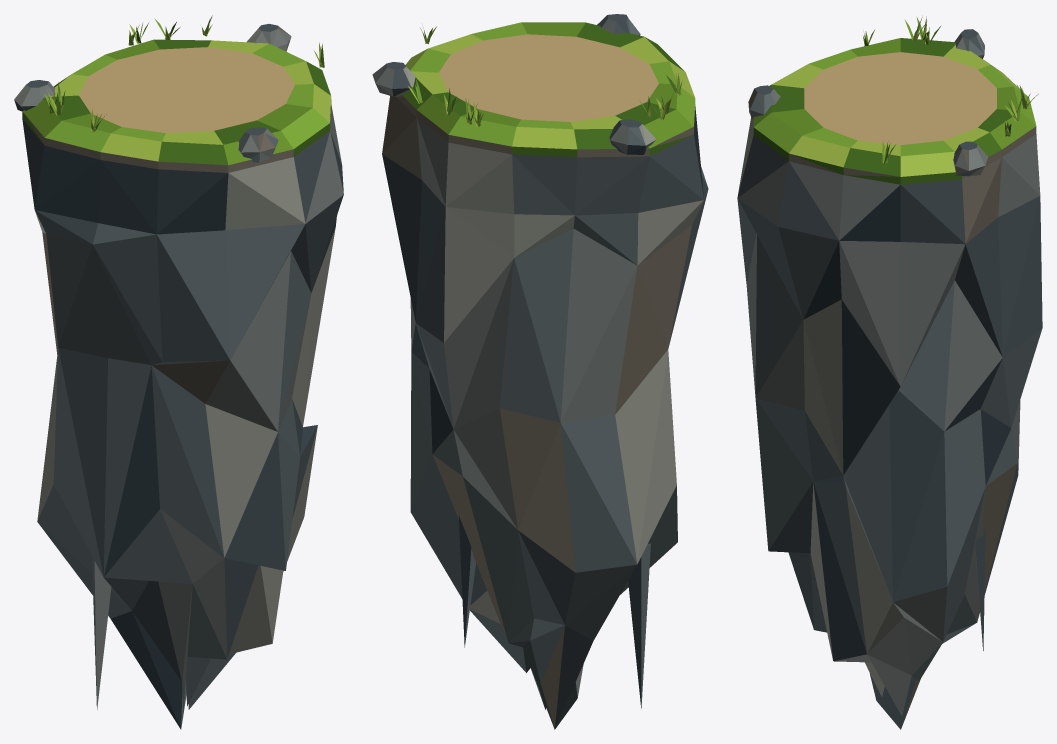
File: narrow.glb
The picture shows the model from 3 angles, left to right: view 1: azimuth 30°, elevation 25°; view 2: azimuth 150°, elevation 25°; view 3: azimuth 270°, elevation 25°; orthographic projection. The views are drawn at different scales.
Visible parts, largest first — view 1: ENV_NarrowHighPillar_Visual; view 2: ENV_NarrowHighPillar_Visual; view 3: ENV_NarrowHighPillar_Visual.
Part boxes in pixels (x1=…): ENV_NarrowHighPillar_Visual: x1=14, y1=15, x2=343, y2=729; ENV_NarrowHighPillar_Visual: x1=372, y1=14, x2=708, y2=729; ENV_NarrowHighPillar_Visual: x1=737, y1=16, x2=1042, y2=729.
Bounding box in the file's own units: 1.77 × 3.84 × 1.62.
